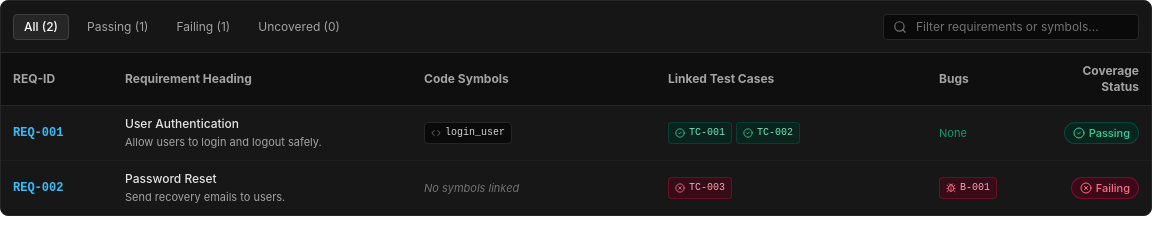
Test case: CoverageTable Component › filters by search input
The image size is (1152, 233).
Type "Authentication" into the field with placeholder "Filter requirements or symbols...". click: (1011, 27)
box: [883,14,1139,40]
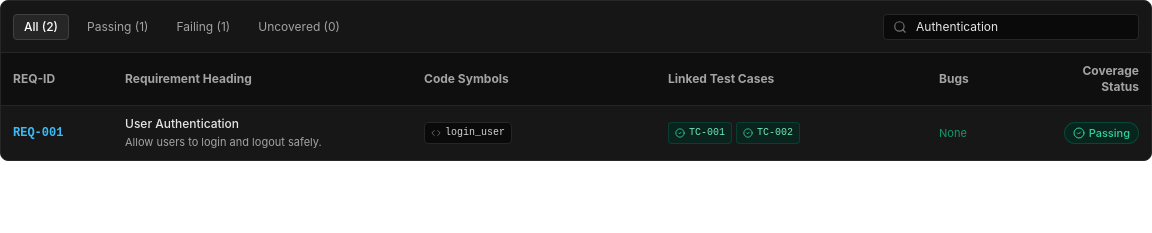
Expected: the text "REQ-001" is shown, [1,106,113,160]
Result: the text "REQ-002" is gone
